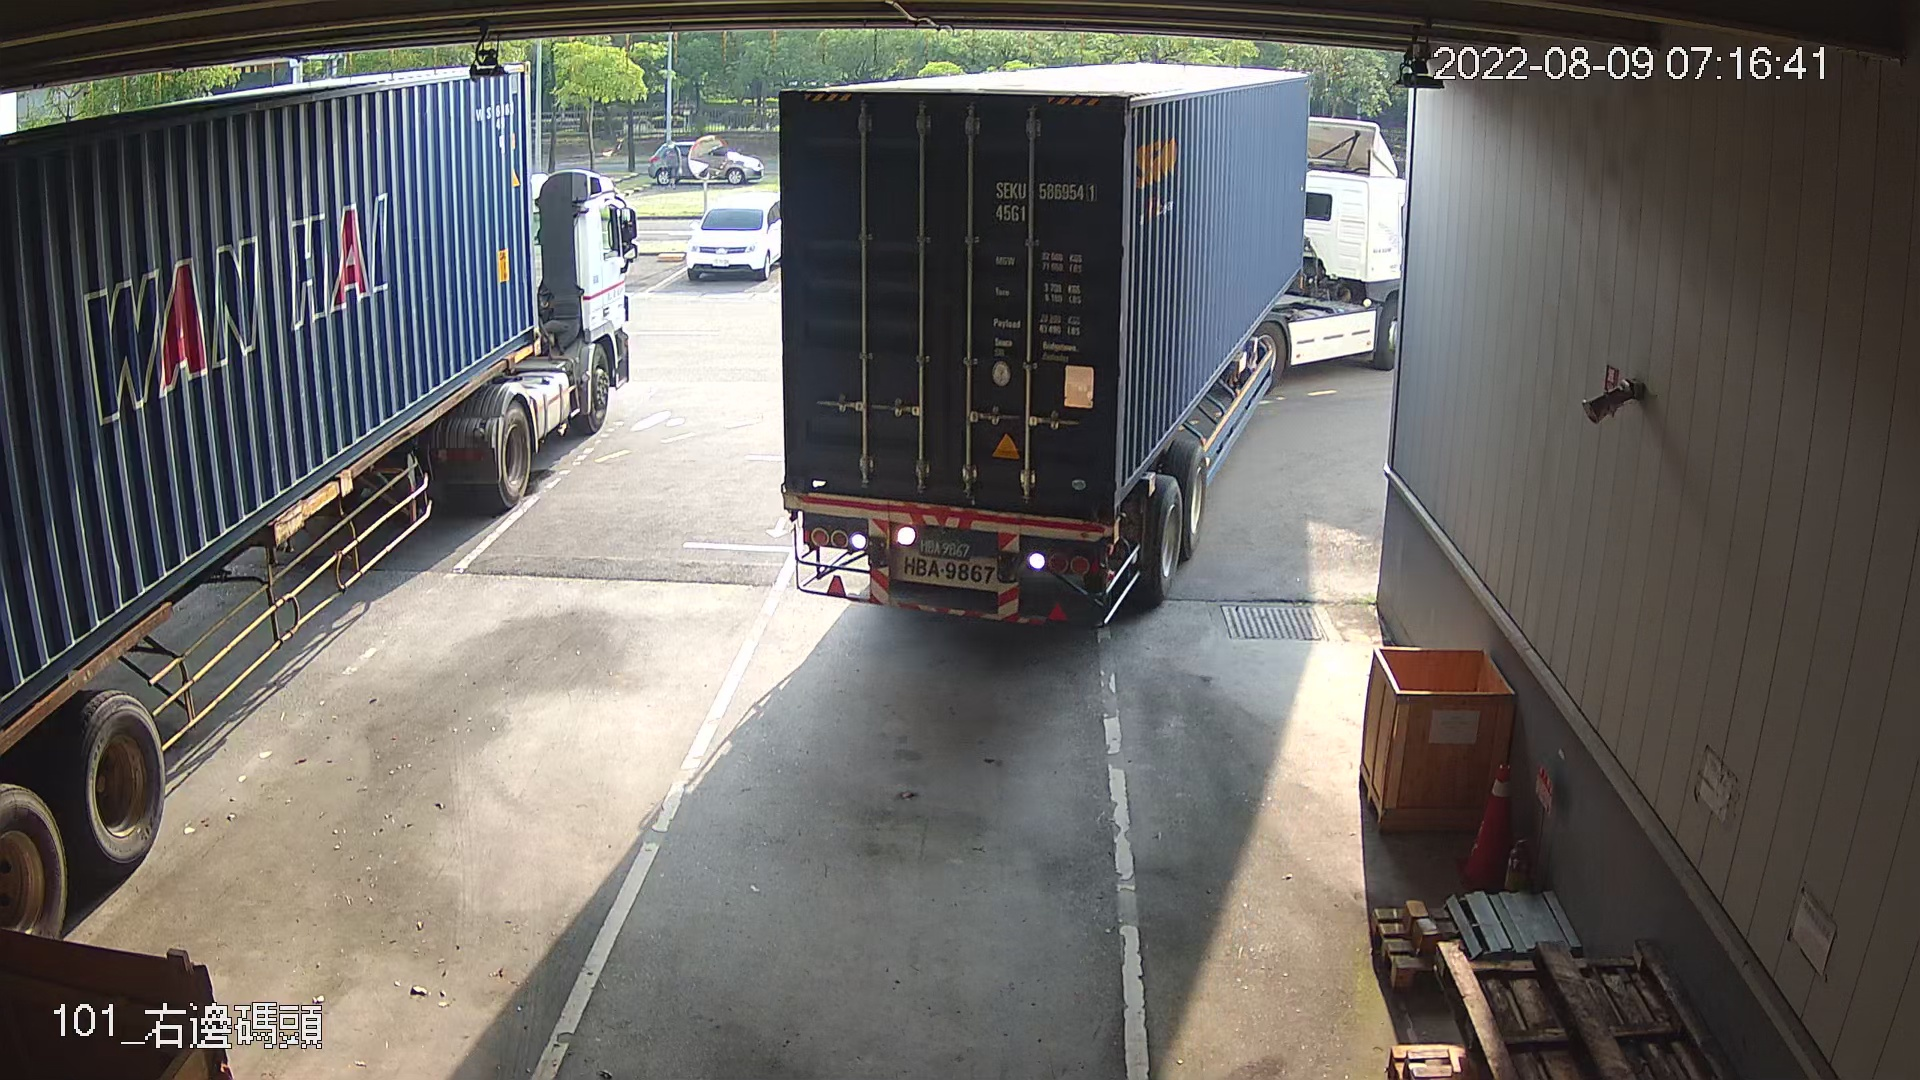container: (986, 170, 1106, 232)
